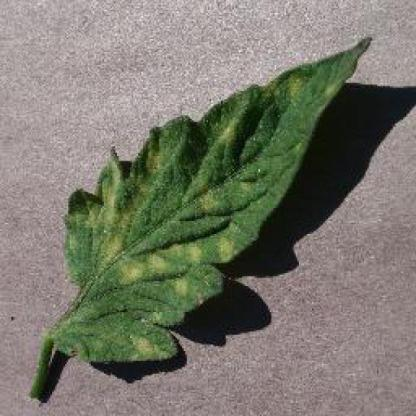Tomato_Leaf_Mold: (51, 38, 369, 361)
